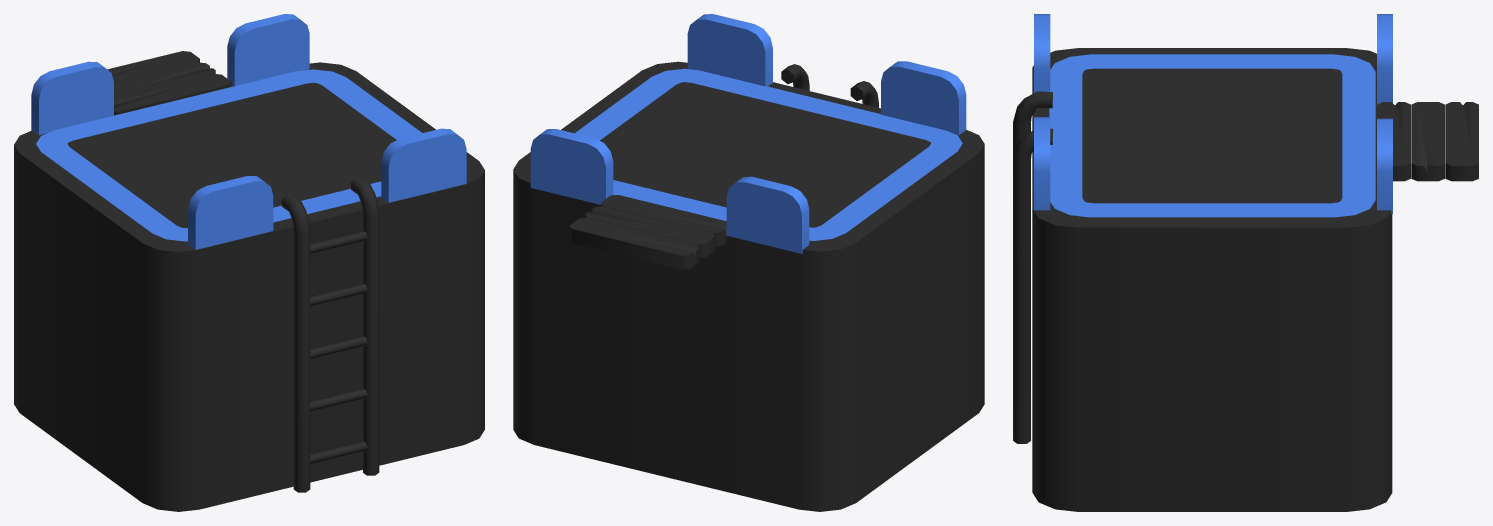
File: slide_1 (1).fbx
3 renders of one model, left to right at view 1: azimuth 30°, elevation 25°; view 2: azimuth 150°, elevation 25°; view 3: azimuth 270°, elevation 25°, orthographic. The views are drawn at different scales.
Parts seen in each view (by area): view 1: Cube.001, Cylinder.012, Cube.004, Cube.005, Cube.006, Cube.022, Cube.007, Cube.023, Cube.026, Cube.027; view 2: Cube.001, Cube.004, Cube.022, Cube.007, Cube.006, Cube.005, Cube.027, Cube.026, Cube.023, Cylinder.012; view 3: Cube.001, Cube.004, Cylinder.012, Cube.026, Cube.027, Cube.023, Cube.005, Cube.007, Cube.022, Cube.006.
Part boxes in pixels (<box>): Cube.001: <box>14,62,484,511</box>; Cylinder.012: <box>281,177,379,492</box>; Cube.004: <box>36,69,422,241</box>; Cube.005: <box>381,128,466,202</box>; Cube.006: <box>188,176,273,249</box>; Cube.022: <box>31,61,113,134</box>; Cube.007: <box>227,14,309,86</box>; Cube.023: <box>114,73,231,114</box>; Cube.026: <box>114,62,215,97</box>; Cube.027: <box>107,51,199,82</box>; Cube.001: <box>513,61,984,511</box>; Cube.004: <box>575,68,962,240</box>; Cube.022: <box>726,176,809,253</box>; Cube.007: <box>530,129,613,204</box>; Cube.006: <box>881,61,966,135</box>; Cube.005: <box>687,14,772,86</box>; Cube.027: <box>569,217,699,269</box>; Cube.026: <box>585,206,715,258</box>; Cube.023: <box>601,195,726,246</box>; Cylinder.012: <box>781,64,878,107</box>; Cube.001: <box>1032,48,1392,511</box>; Cube.004: <box>1049,54,1375,217</box>; Cylinder.012: <box>1013,91,1052,443</box>; Cube.026: <box>1411,102,1444,181</box>; Cube.027: <box>1445,102,1478,181</box>; Cube.023: <box>1377,102,1410,181</box>; Cube.005: <box>1034,117,1050,210</box>; Cube.007: <box>1377,118,1392,214</box>; Cube.022: <box>1377,14,1392,105</box>; Cube.006: <box>1034,14,1050,92</box>.
Bounding box in the file's own units: 0.7654 × 0.6826 × 0.8384.
